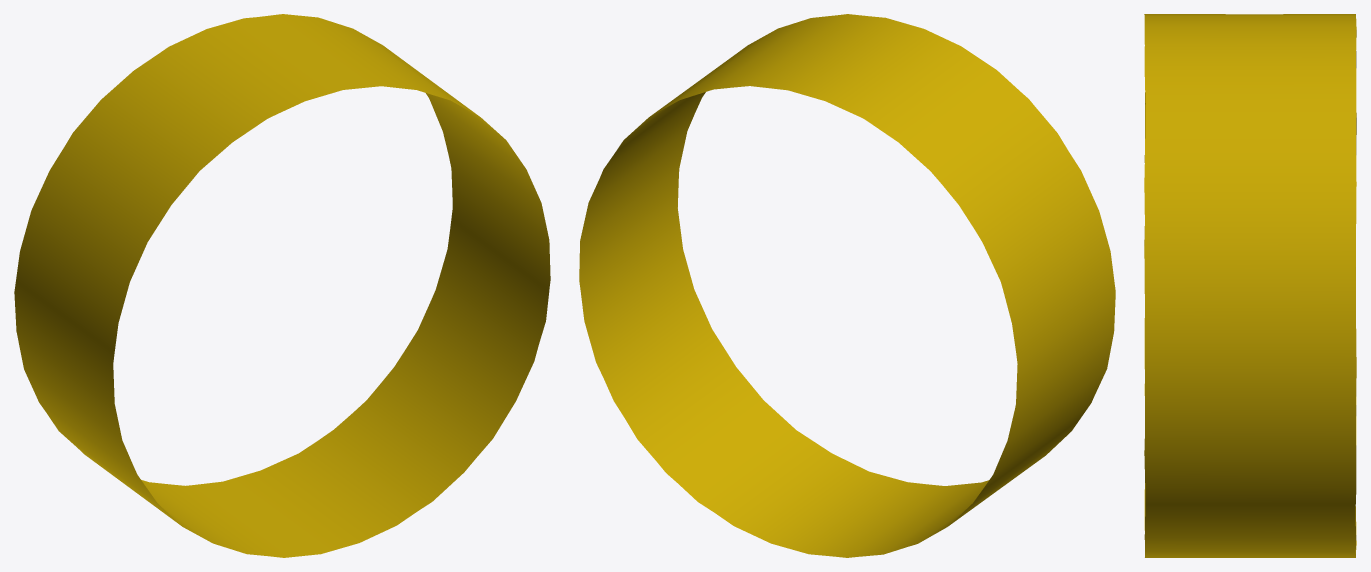
Rendered from original_5.obj.
The picture shows the model from 3 angles, left to right: view 1: azimuth 30°, elevation 25°; view 2: azimuth 150°, elevation 25°; view 3: azimuth 270°, elevation 25°; orthographic projection. The views are drawn at different scales.
Parts seen in each view (by area): view 1: #ID29; view 2: #ID29; view 3: #ID29.
Boxes of the visible parts, x1,y1,x2,y2 form: #ID29: [14, 14, 550, 557]; #ID29: [579, 14, 1115, 557]; #ID29: [1144, 14, 1356, 557].
Bounding box in the file's own units: 0.1362 × 0.1362 × 0.0532.
